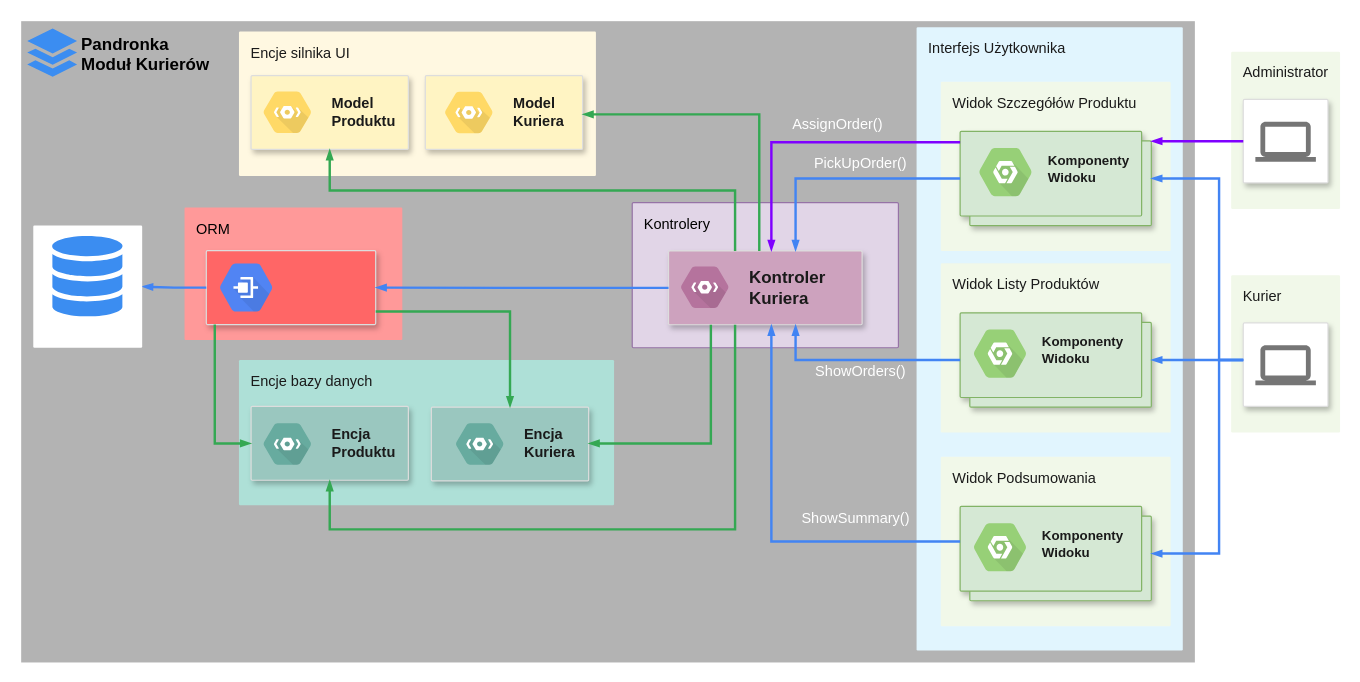
This 1360x682 diagram has some shape labels left out. The centre of each missing label's shape, as x and y in pixels:
"Adapter dostępowy" goes at pixel 246 287.
"Baza danych" goes at pixel 87 275.
